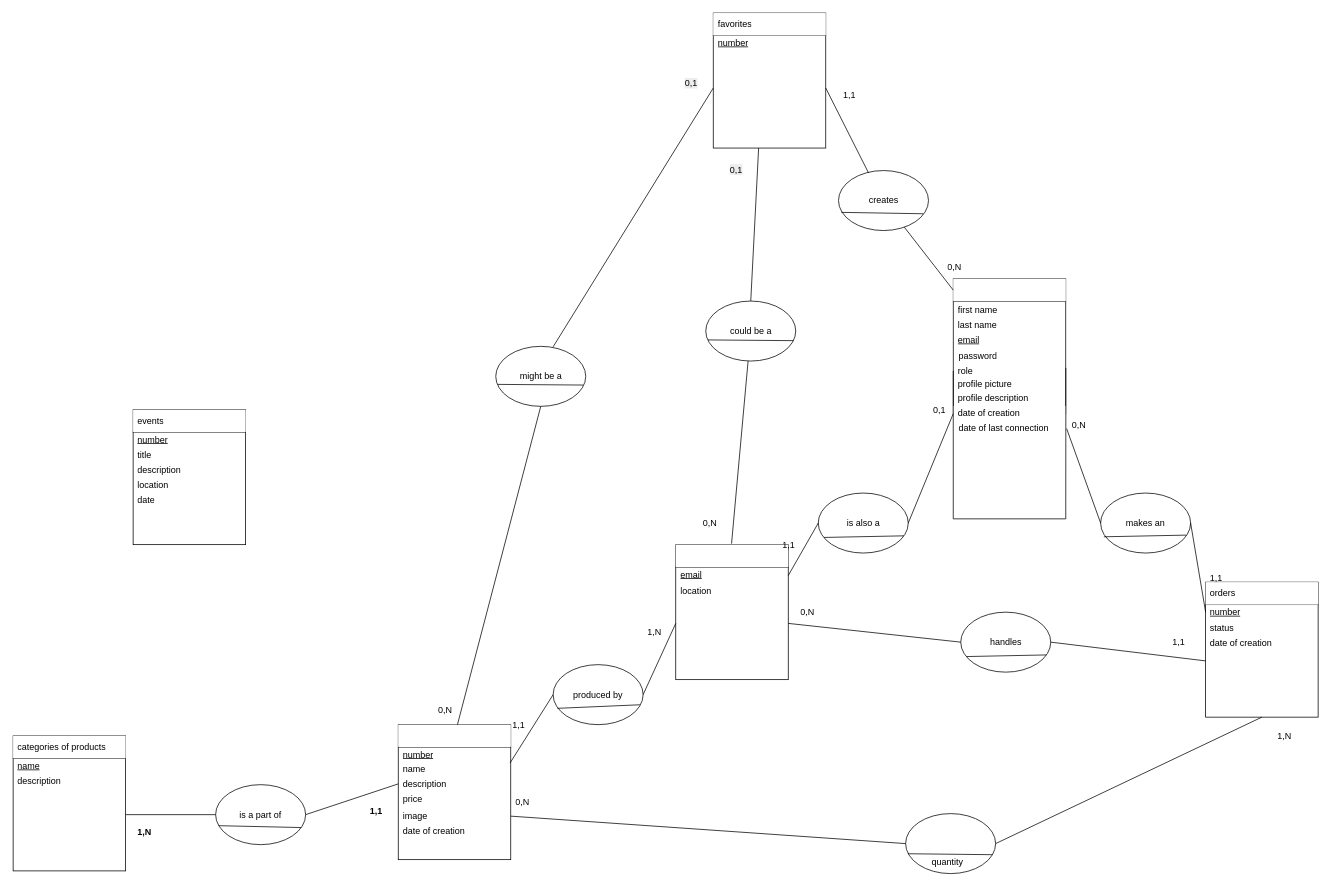
The diagram is 1331 pixels wide and 887 high, and some of its shapes have lost their labels. The shapes that lost their labels are listed below. From the top down, each one's box as (x1, y1, x2, y2) in pixels, then its label:
(953, 278, 1065, 301): users
(675, 544, 788, 567): producers
(398, 724, 510, 747): products
(905, 813, 996, 874): is made of
